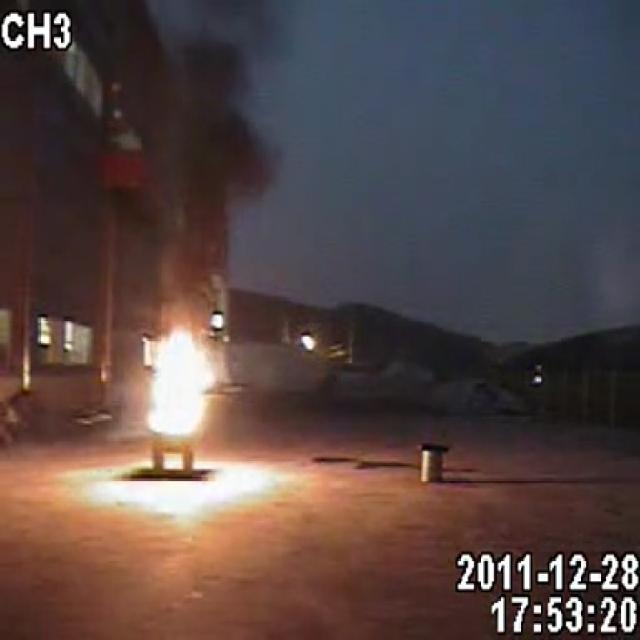Fire: (148, 317, 224, 438)
